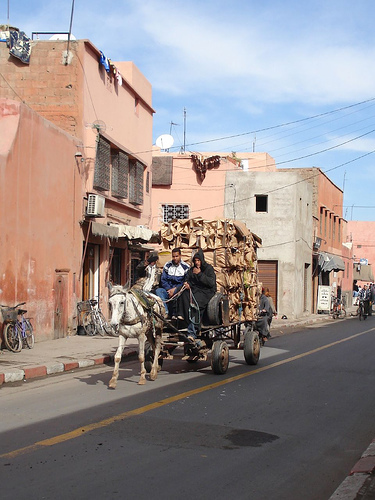horse: (103, 278, 167, 390)
